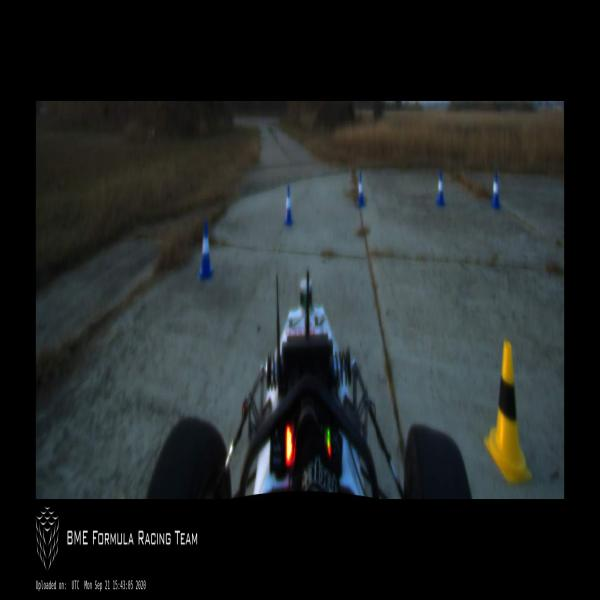blue_cone: (198, 224, 214, 281), (490, 173, 502, 211), (436, 170, 445, 206), (284, 187, 292, 225), (357, 173, 365, 208)
yellow_cone: (485, 340, 531, 484)
